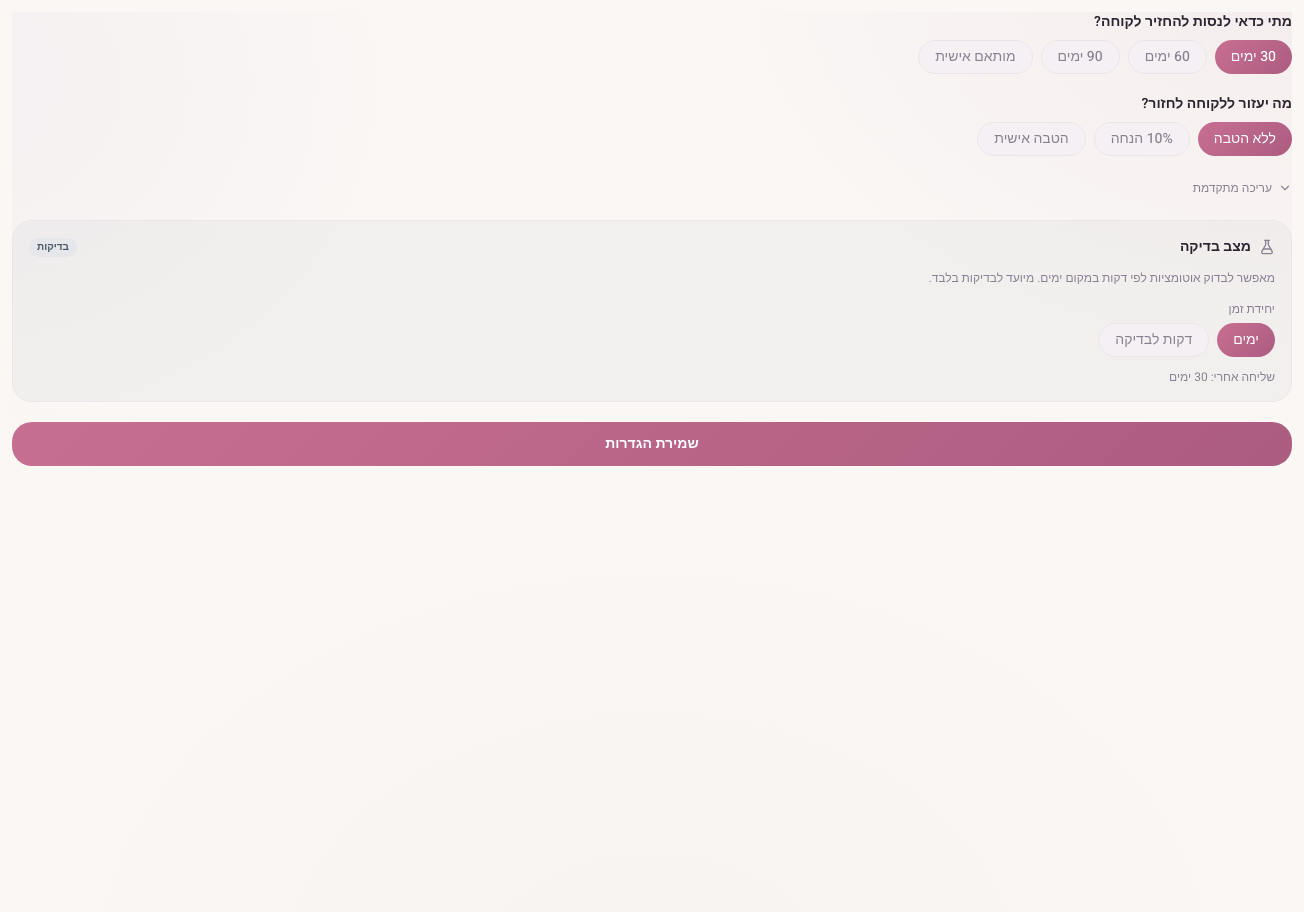
WinBackSettingsForm — test mode (minutes) › validates minute inputs and blocks save with an invalid value
The image size is (1304, 912).
Click the button "דקות לבדיקה" at (1154, 340), box [1098,322,1209,356]
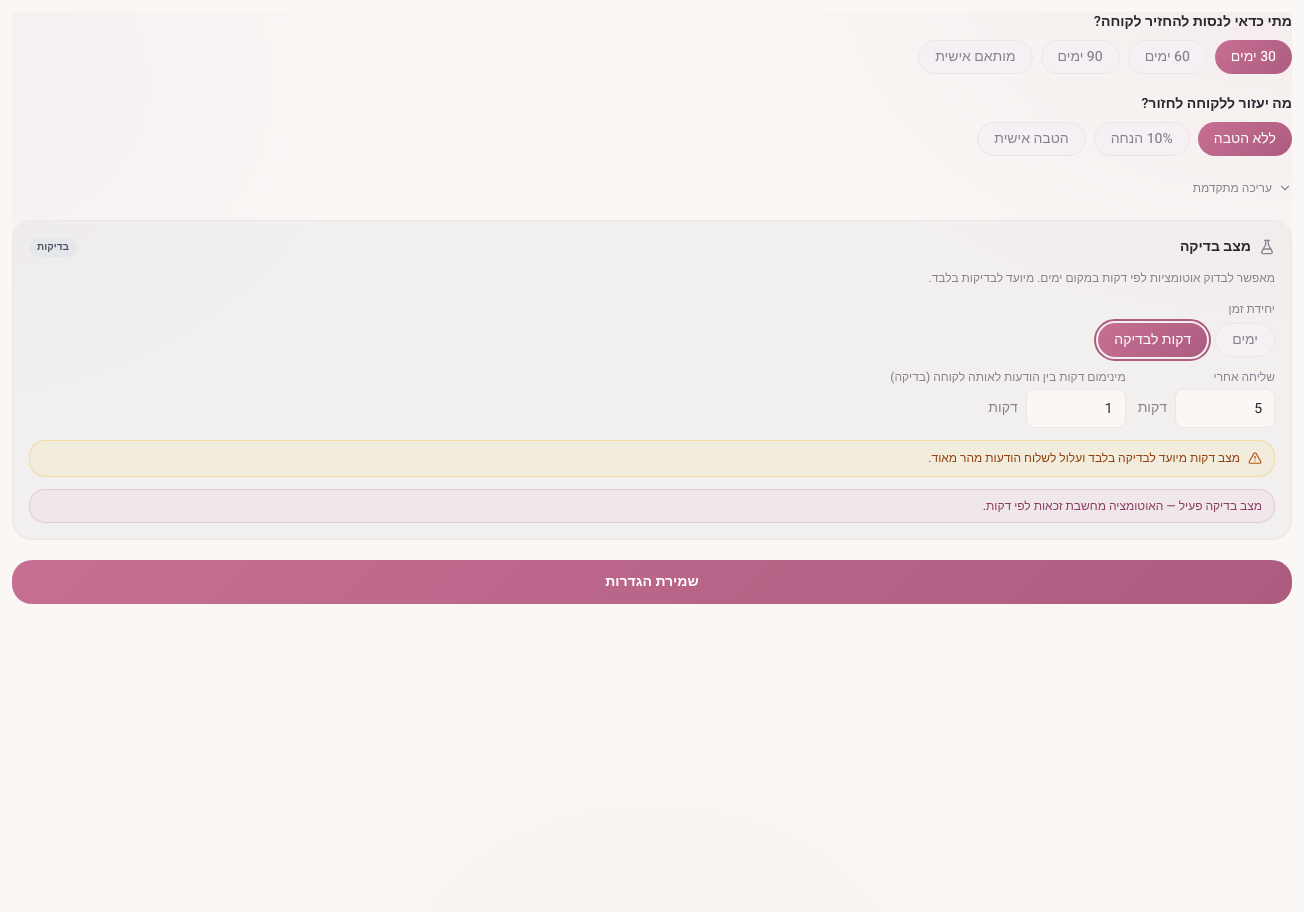
Replace the text in the number field below "שליחה אחרי" with "0" at (1225, 408), box [1175,388,1275,428]
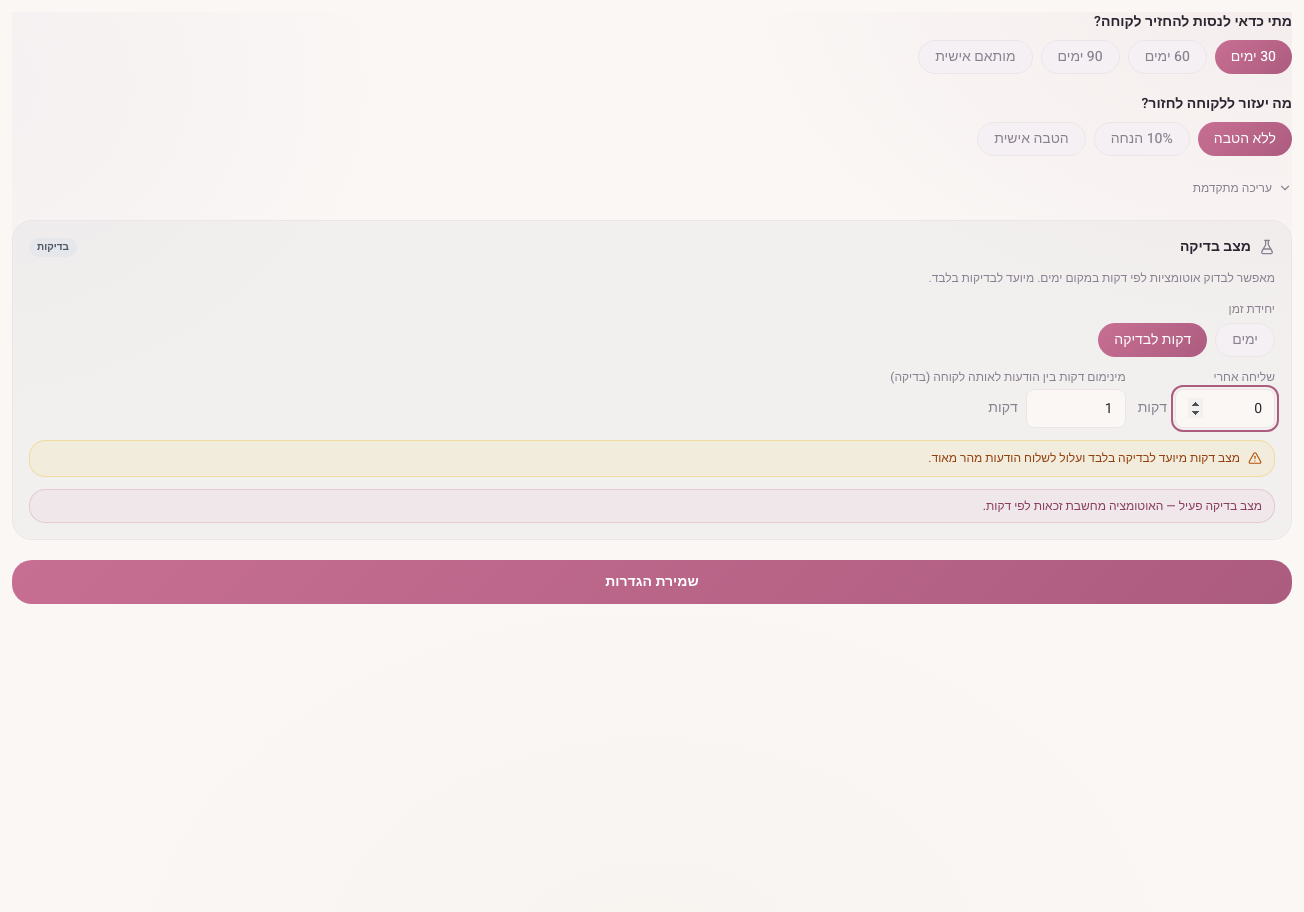
Click the button "שמירת הגדרות" at (652, 582), box [12,560,1292,604]
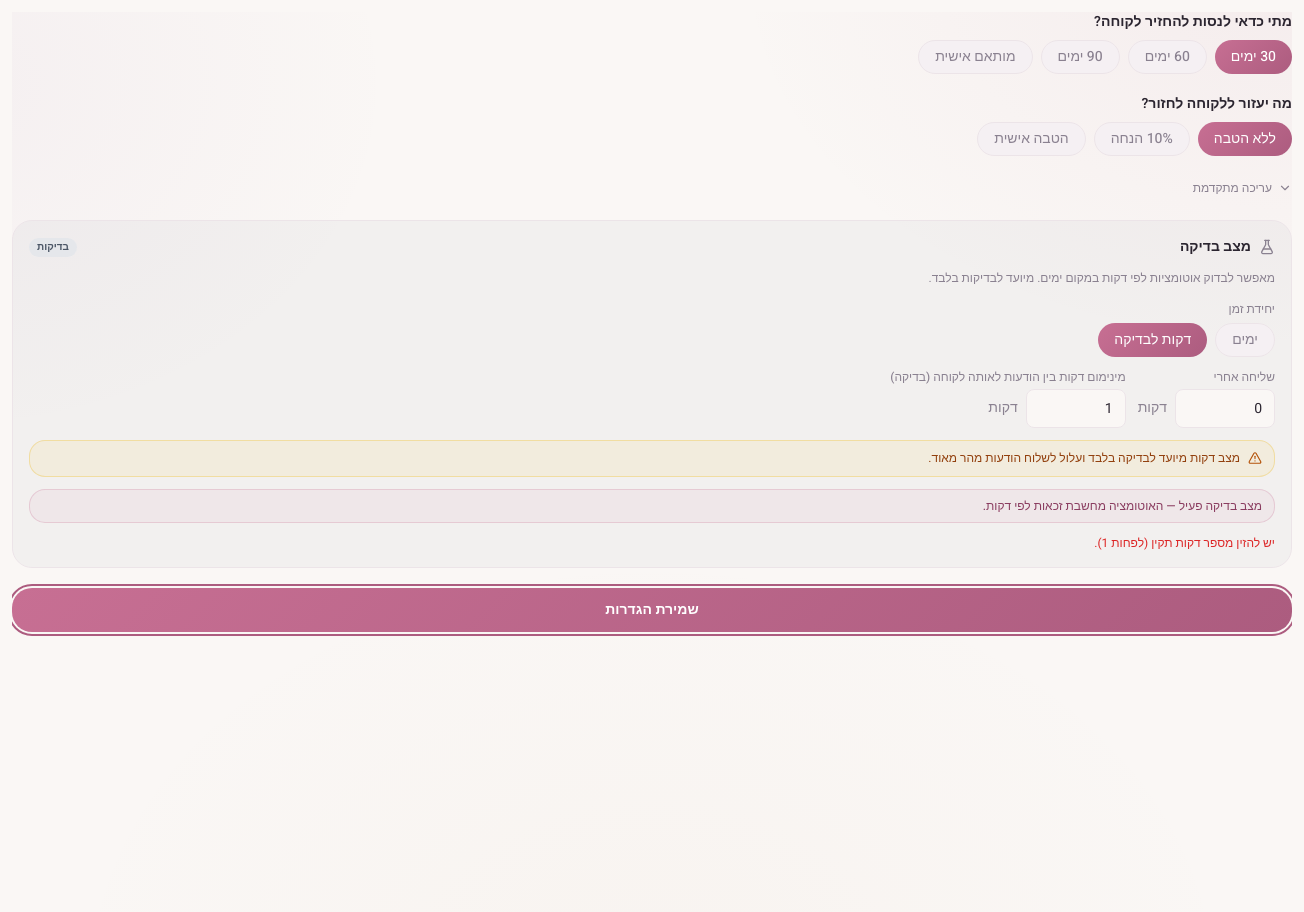
Check: the text "יש להזין מספר דקות תקין (לפחות 1)." is shown, box [1094,534,1275,552]
